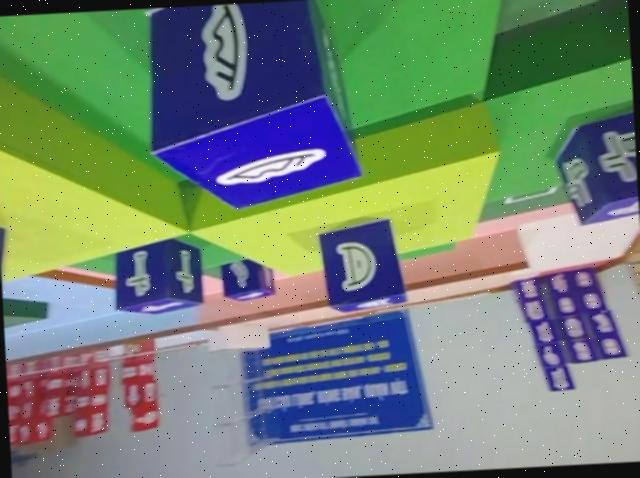R2 Real Blue: (146, 0, 366, 218), (555, 103, 640, 227), (316, 215, 409, 313), (110, 234, 205, 315), (222, 255, 278, 301)
